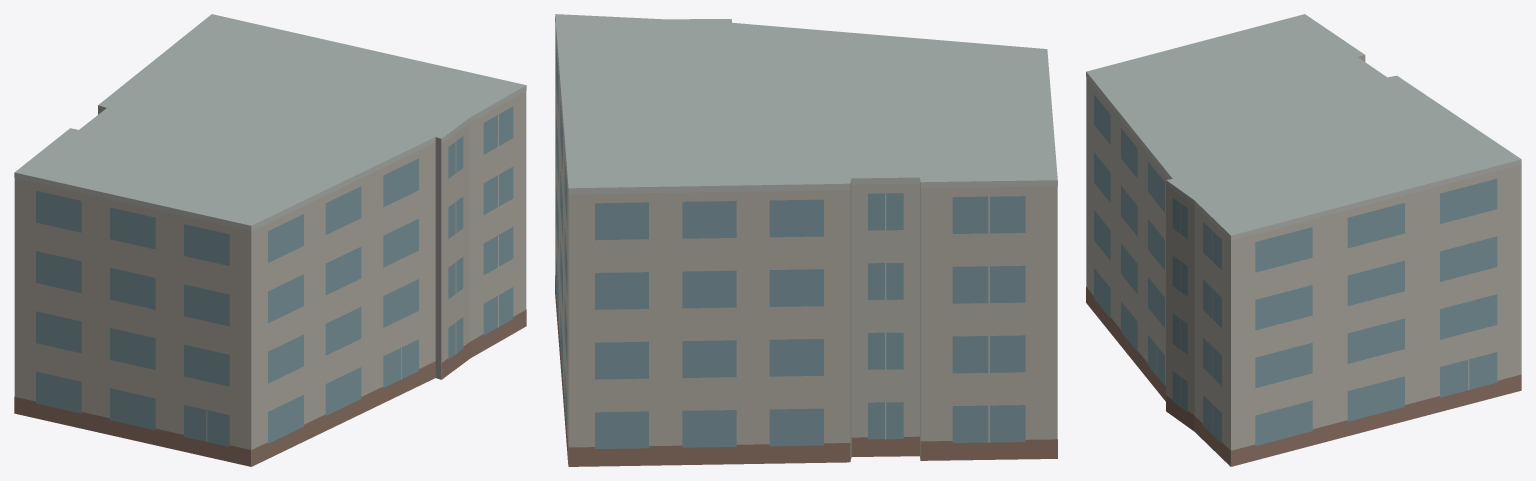
File: survey-upis-32601479.glb
3 renders of one model, left to right at view 1: azimuth 30°, elevation 25°; view 2: azimuth 150°, elevation 25°; view 3: azimuth 270°, elevation 25°, orthographic. The views are drawn at different scales.
Visible parts, largest first — view 1: survey-upis-32601479.tmp; view 2: survey-upis-32601479.tmp; view 3: survey-upis-32601479.tmp.
Boxes of the visible parts, <box> form: survey-upis-32601479.tmp: <box>14,14,526,466</box>; survey-upis-32601479.tmp: <box>555,14,1057,466</box>; survey-upis-32601479.tmp: <box>1086,14,1521,466</box>.
Bounding box in the file's own units: 22.62 × 11 × 18.78.
